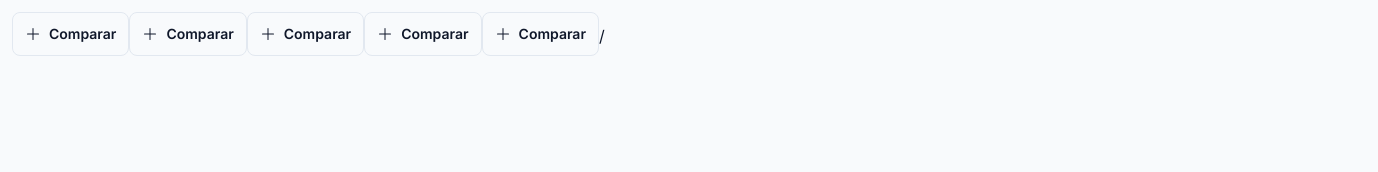
compare button and tray › adds a motorcycle to the tray and remembers it
Click the 1st button "Comparar" at [71, 34], box left=12, top=12, right=129, bottom=56
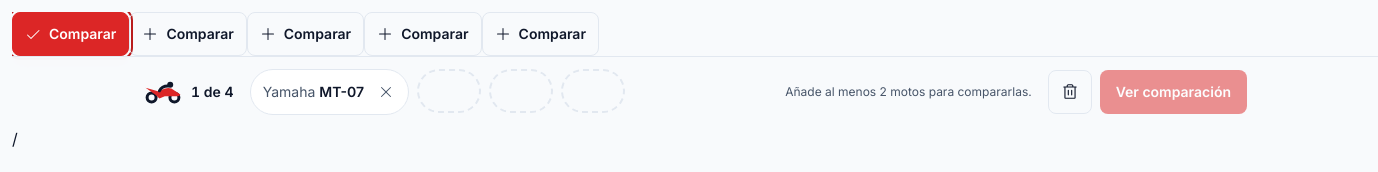
Check: the message reads "1 de 4", box left=191, top=82, right=234, bottom=102
